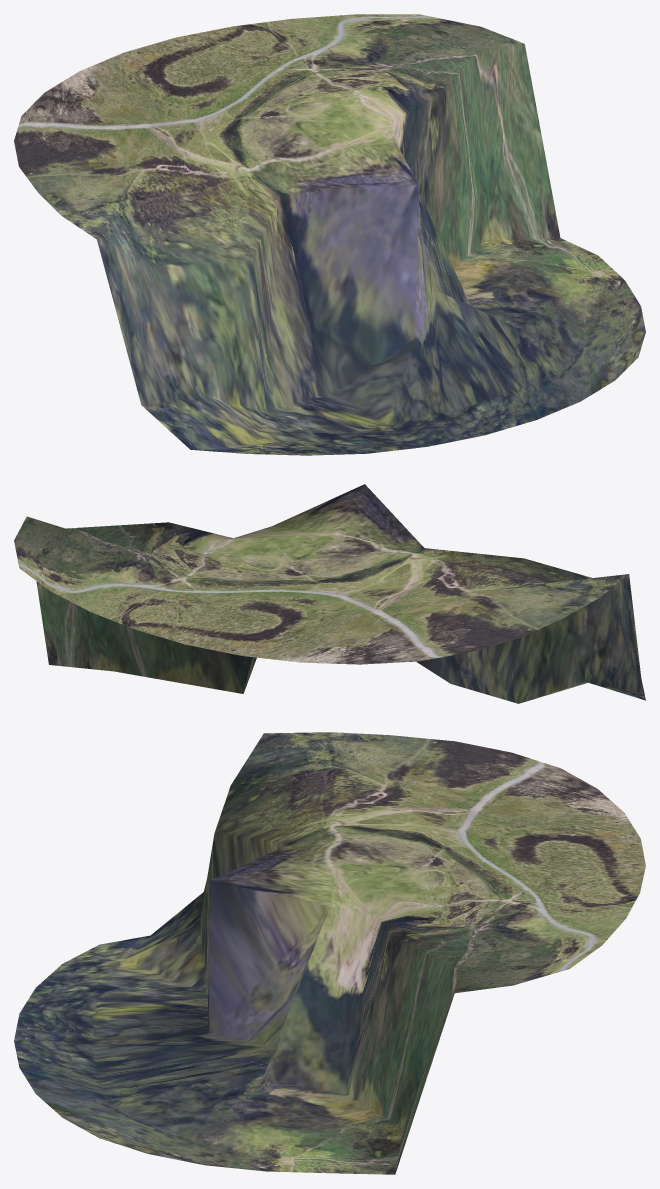
File: CaveHillModel.gltf
3 views of the same model, one above another, from view 1: azimuth 30°, elevation 25°; view 2: azimuth 150°, elevation 25°; view 3: azimuth 270°, elevation 25° (orthographic). The views are drawn at different scales.
Parts seen in each view (by area): view 1: Plane; view 2: Plane; view 3: Plane.
Part boxes in pixels (bbox=[...]): Plane: bbox=[14, 14, 645, 455]; Plane: bbox=[14, 484, 645, 703]; Plane: bbox=[14, 732, 645, 1174].
Size of the model in its own units: 8.17 by 2.72 by 8.17.
Materials: 1 (1 with a texture image).
